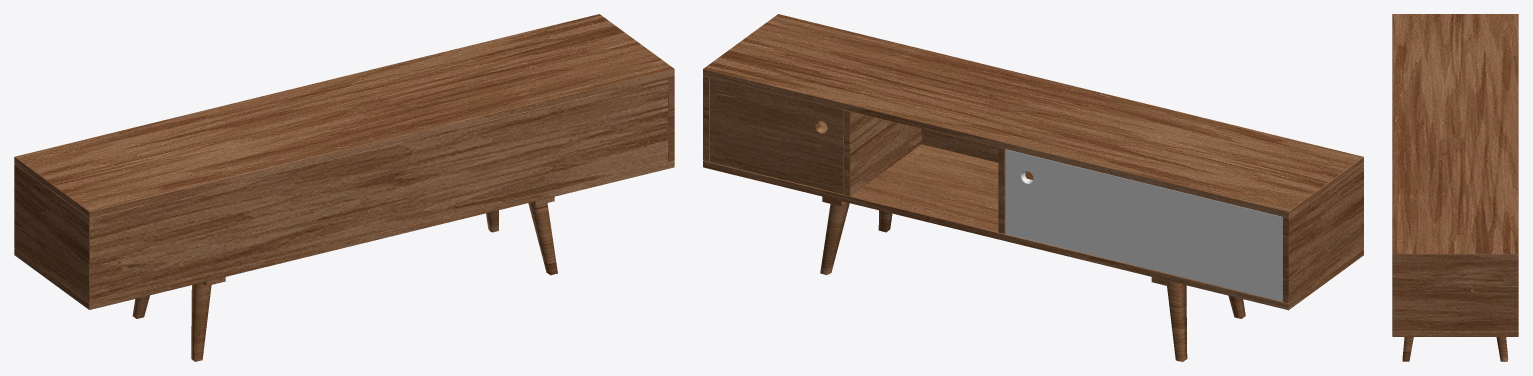
File: tvCabinet-v2.glb
3 renders of one model, left to right at view 1: azimuth 30°, elevation 25°; view 2: azimuth 150°, elevation 25°; view 3: azimuth 270°, elevation 25°, orthographic. The views are drawn at different scales.
Visible parts, largest first — view 1: Object_3; view 2: Object_3; view 3: Object_3.
Boxes of the visible parts, x1,y1,x2,y2 form: Object_3: (14,14,674,361); Object_3: (703,14,1363,361); Object_3: (1392,14,1518,361).
Bounding box in the file's own units: 2.5 × 0.7435 × 0.556.
Materials: 1 (1 with a texture image).
